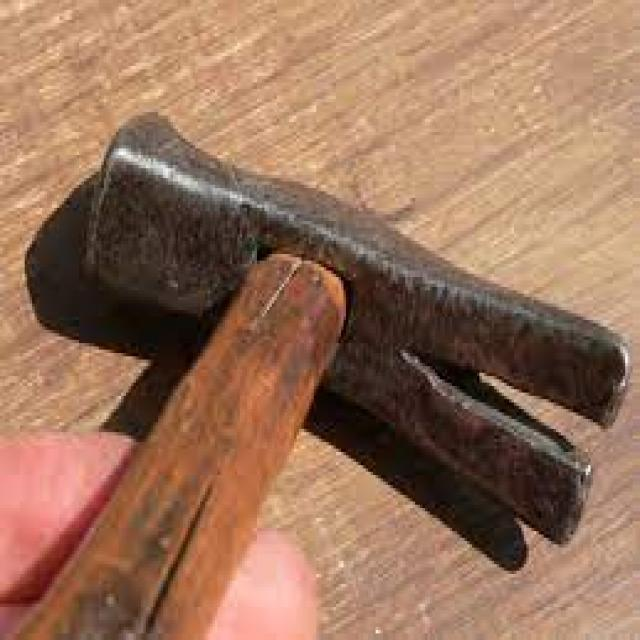hammer: (0, 99, 633, 640)
